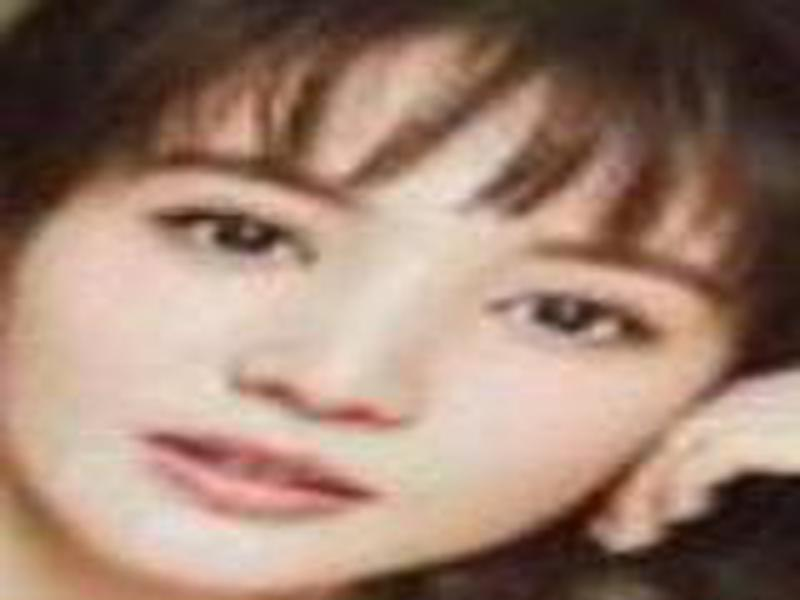without_mask: (4, 27, 742, 591)
